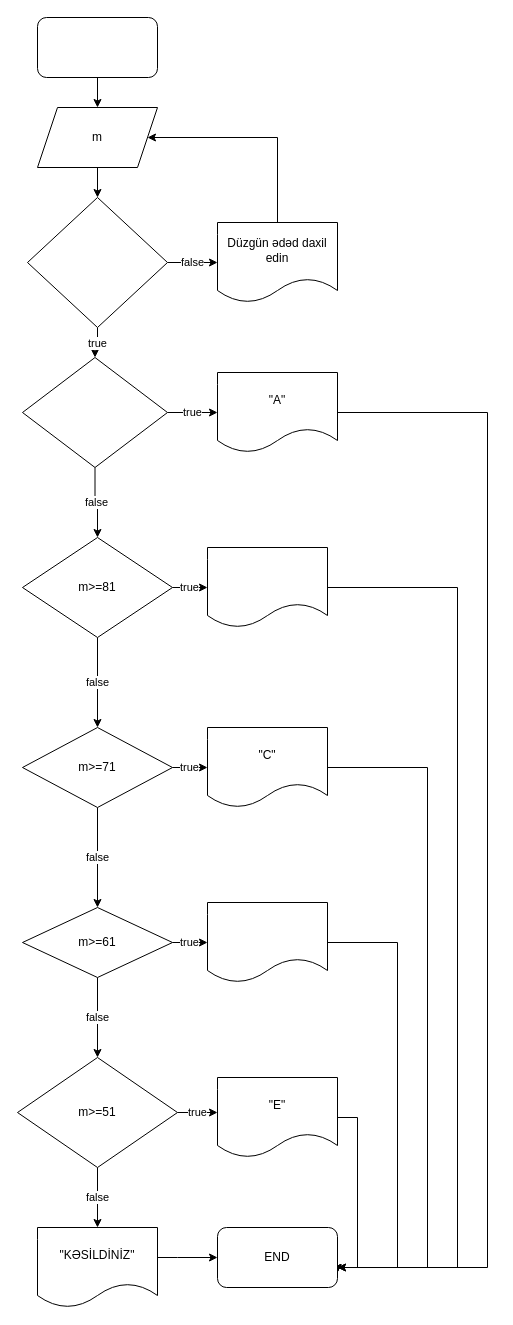
The diagram is 513 pixels wide and 1325 high, and some of its shapes have lost their labels. Each missing label, with the centre of its shape:
"B": the point at 267,587
"D": the point at 267,942
m>=0 && m<=100: the point at 97,262
m>=91: the point at 95,412
start: the point at 97,47
